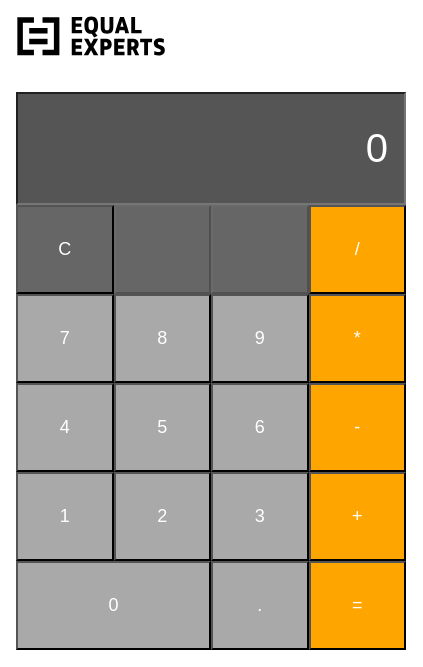
Test: render, input & clear related tests: › it displays a number
Click the button "6".
click(260, 428)  # box [211,383,308,472]
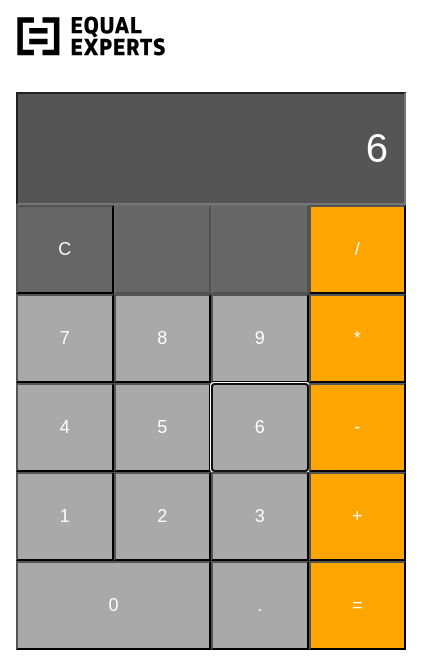
Expected: the field holds "6", [16,92,406,205]
